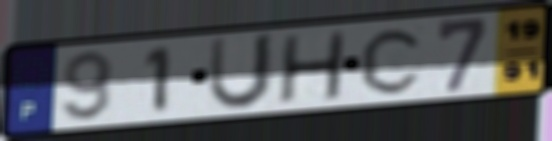1: (141, 45, 173, 114)
7: (435, 17, 491, 96)
9: (60, 49, 117, 123)
C: (357, 25, 428, 97)
H: (274, 28, 349, 106)
U: (204, 31, 280, 113)
